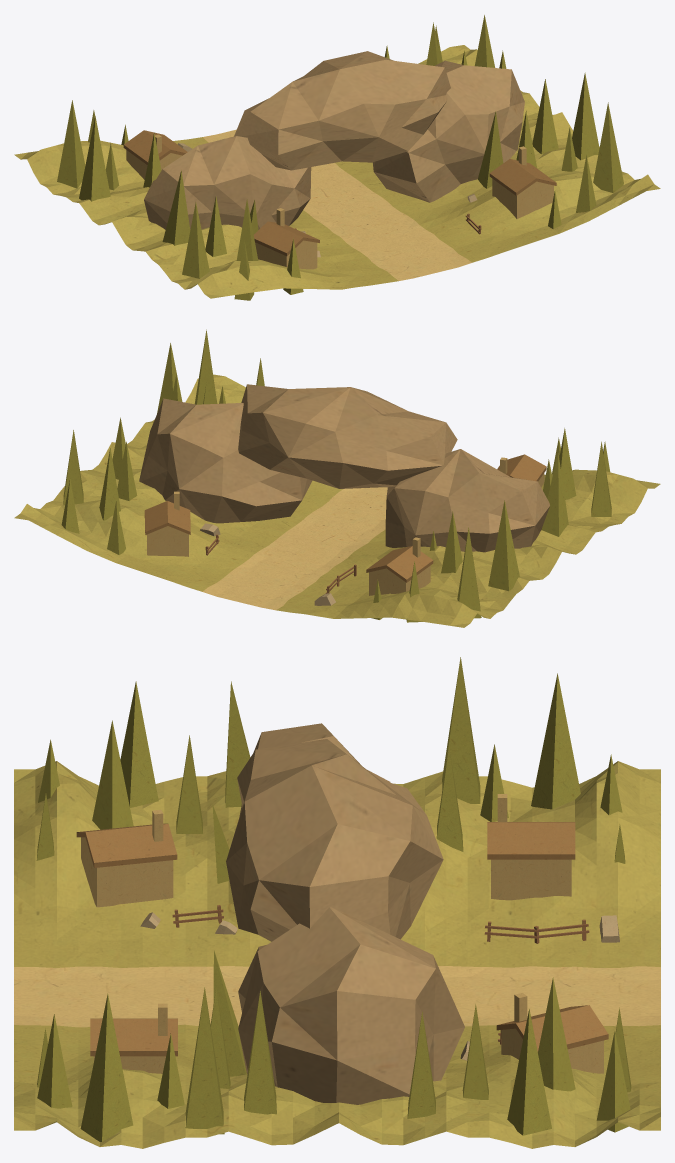
File: road_rocks.fbx
3 renders of one model, top to bottom at view 1: azimuth 30°, elevation 25°; view 2: azimuth 150°, elevation 25°; view 3: azimuth 270°, elevation 25°, orthographic. The views are drawn at different scales.
Parts seen in each view (by area): view 1: Landscape.003; view 2: Landscape.003; view 3: Landscape.003.
Part boxes in pixels (box(x1,y1,x2,y2)): Landscape.003: box(14, 15, 660, 300); Landscape.003: box(14, 329, 660, 627); Landscape.003: box(14, 657, 660, 1148).
Bounding box in the file's own units: 531 × 175 × 402.
1 material, 1 textured.
